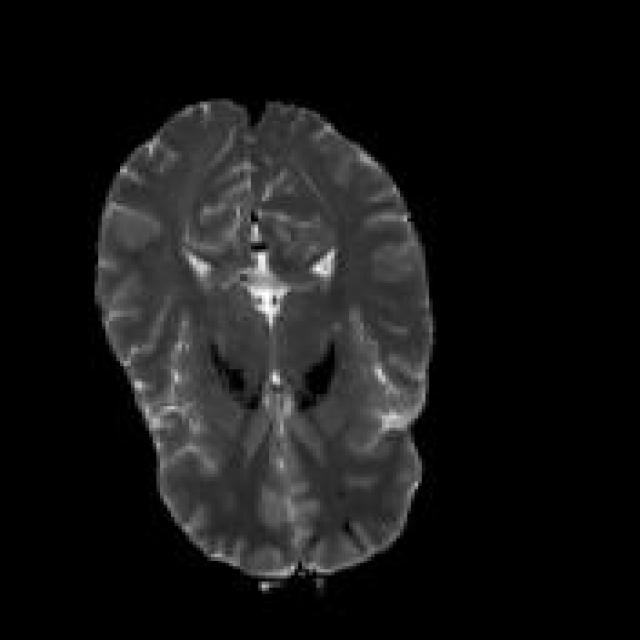CONTROL: (91, 95, 433, 591)
